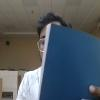notebook: (38, 22, 99, 99)
